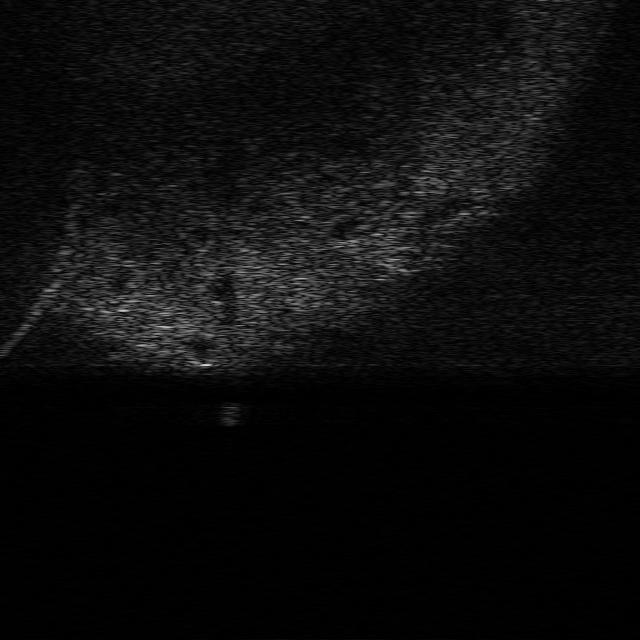cylinder: (215, 400, 246, 428)
